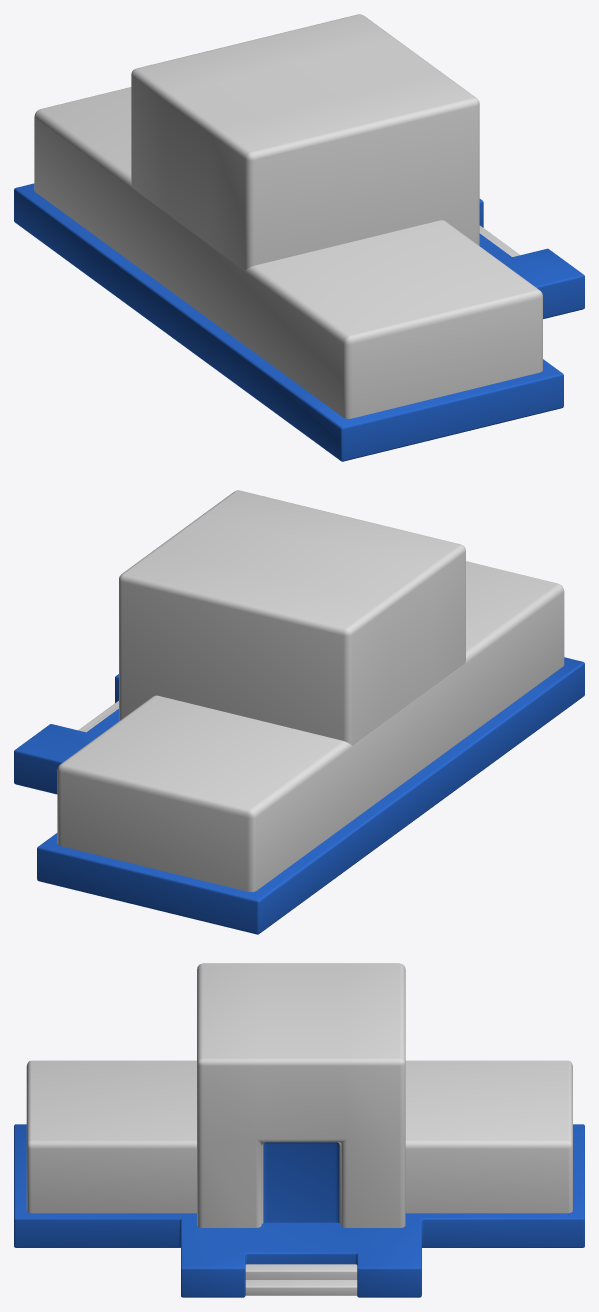
File: PIP_nursing-home-3d-3.glb
3 renders of one model, top to bottom at view 1: azimuth 30°, elevation 25°; view 2: azimuth 150°, elevation 25°; view 3: azimuth 270°, elevation 25°, orthographic. The views are drawn at different scales.
Visible parts, largest first — view 1: Cube.162, Cube.163, Cube.165; view 2: Cube.162, Cube.163, Cube.165; view 3: Cube.162, Cube.163, Cube.165, Cube.168, Cube.167.
Part boxes in pixels (box(x1,y1,x2,y2)): Cube.162: box(131, 14, 479, 270); Cube.163: box(34, 87, 542, 418); Cube.165: box(14, 183, 584, 461); Cube.162: box(119, 490, 465, 745); Cube.163: box(57, 561, 564, 891); Cube.165: box(14, 657, 584, 934); Cube.162: box(197, 963, 405, 1227); Cube.163: box(26, 1060, 572, 1213); Cube.165: box(14, 1124, 584, 1297); Cube.168: box(245, 1280, 357, 1295); Cube.167: box(245, 1264, 357, 1279).
Bounding box in the file's own units: 0.8038 × 0.5128 × 1.34.
